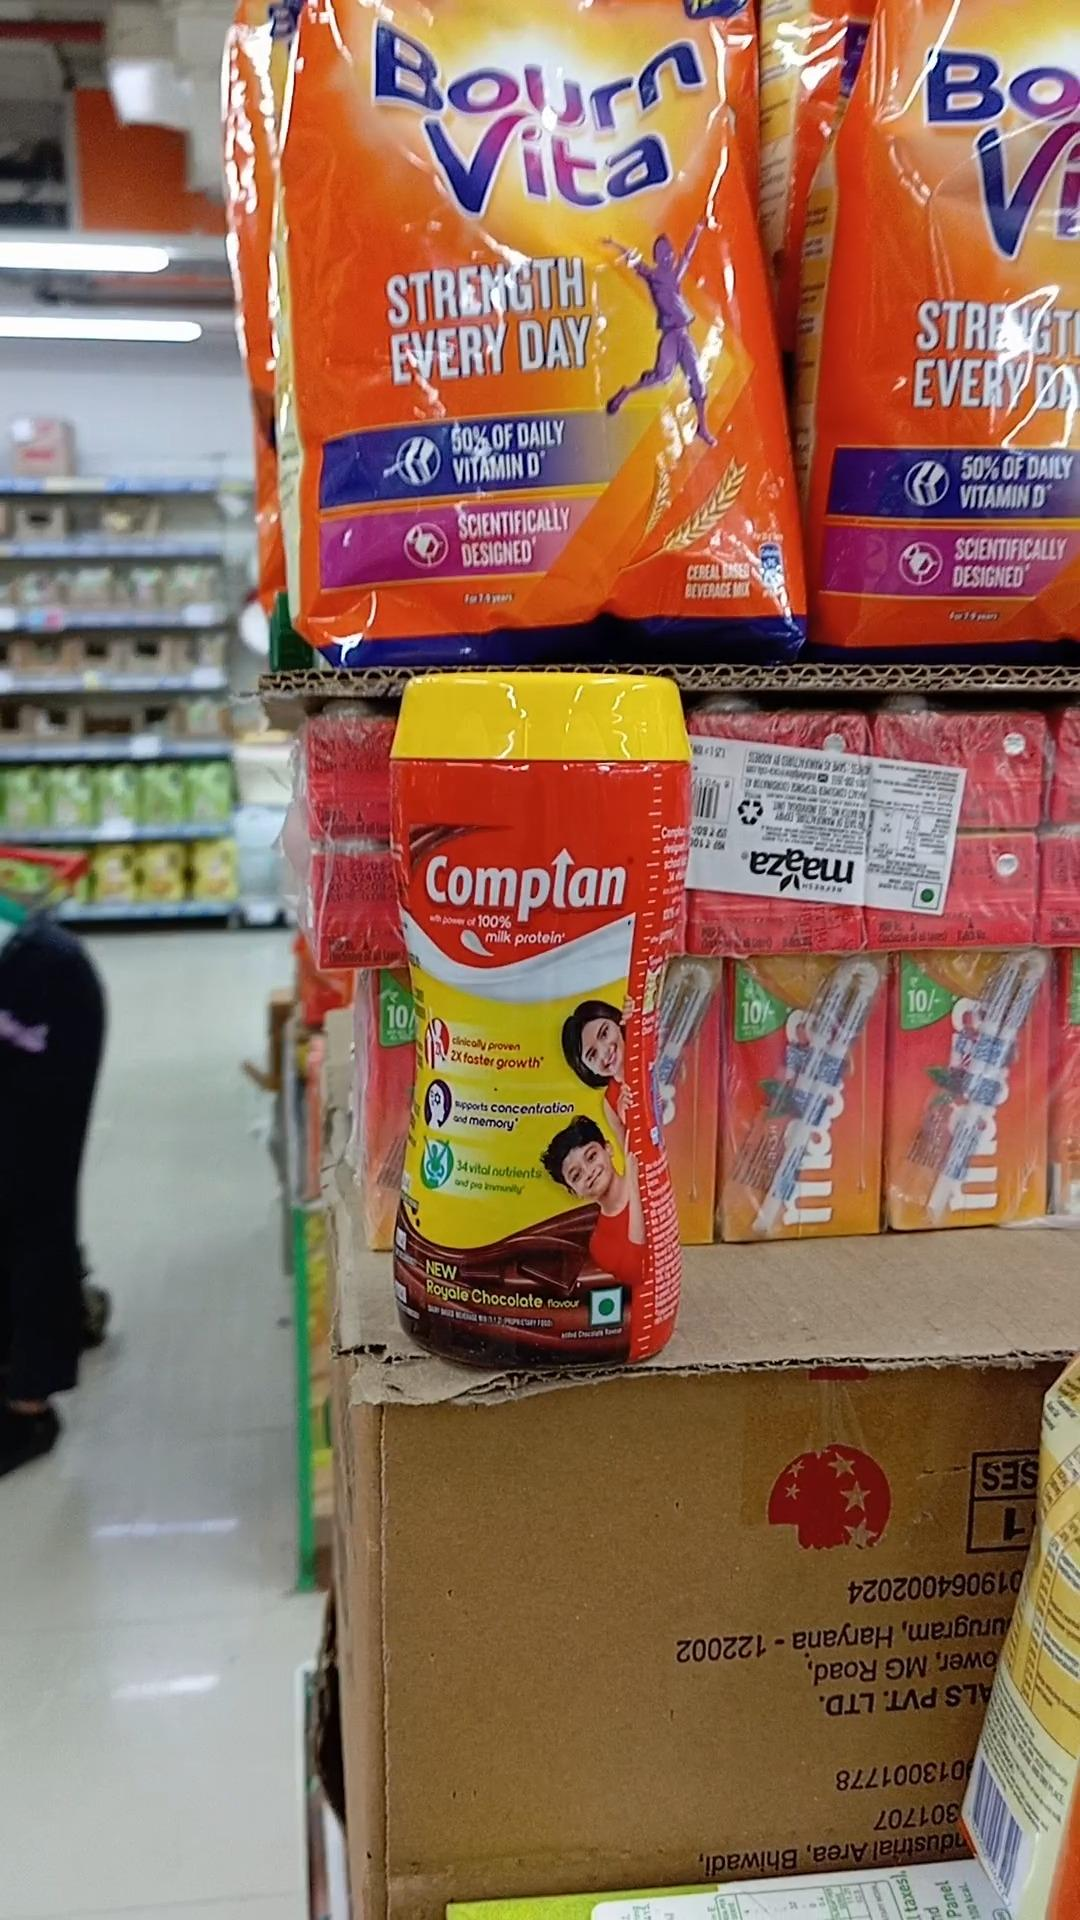COMPLAN_CHOCOLATE_200_GMS_JAR: (392, 650, 676, 1354)
